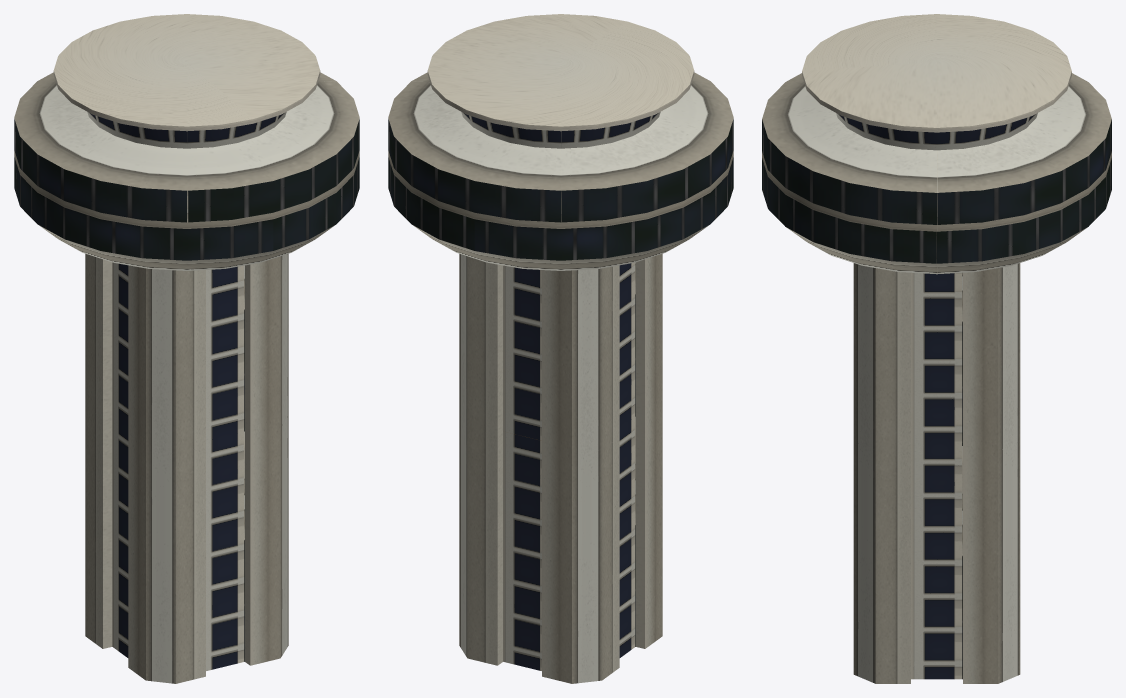
Rendered from palace2.dae.
3 renders of one model, left to right at view 1: azimuth 30°, elevation 25°; view 2: azimuth 150°, elevation 25°; view 3: azimuth 270°, elevation 25°, orthographic.
Visible parts, largest first — view 1: palace2; view 2: palace2; view 3: palace2.
Boxes of the visible parts, x1,y1,x2,y2 form: palace2: (14, 14, 359, 683); palace2: (388, 14, 733, 683); palace2: (762, 14, 1111, 683).
Size of the model in its own units: 3.15 by 3.15 by 5.82.
Materials: 1 (1 with a texture image).
